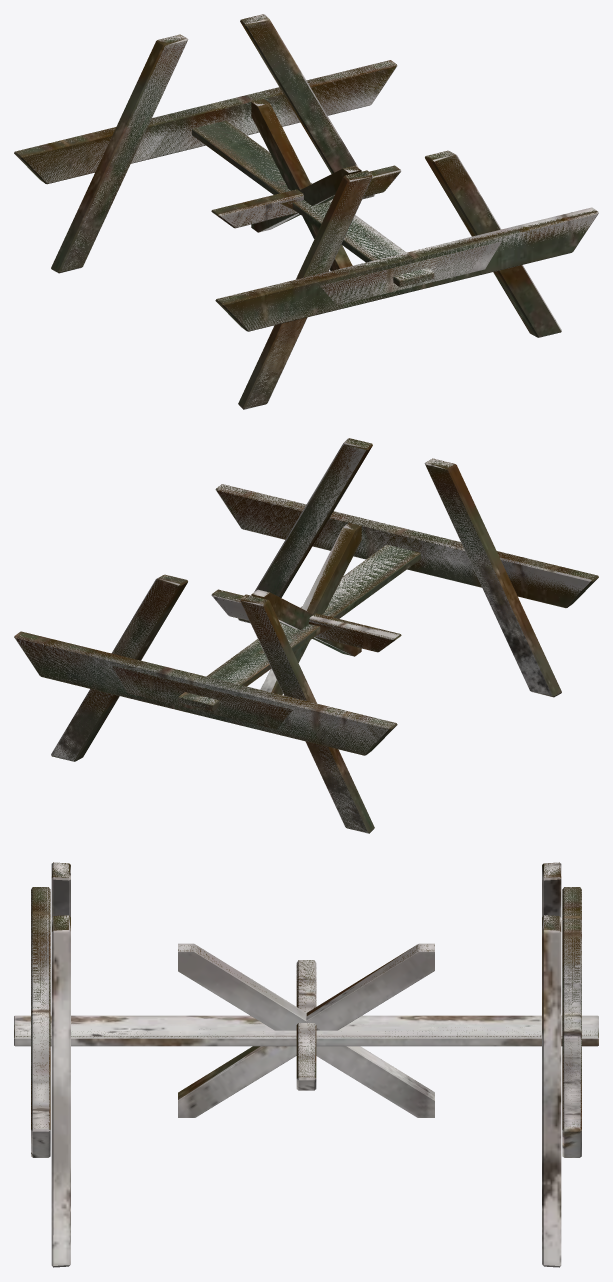
The model's file is picnic-table.glb.
The picture shows the model from 3 angles, top to bottom: view 1: azimuth 30°, elevation 25°; view 2: azimuth 150°, elevation 25°; view 3: azimuth 270°, elevation 25°; orthographic projection. The views are drawn at different scales.
Parts seen in each view (by area): view 1: pCube16 (×2), pCube13 (×2), pCube14 (×2), pCube31, pCube34 (×2), pCube20 (×2), pCube37, pCube32, pCube26, pCube30; view 2: pCube16 (×2), pCube13 (×2), pCube14 (×2), pCube33 (×2), pCube20 (×2), pCube26 (×2), pCube34 (×2), pCube31, pCube37, pCube30; view 3: pCube13 (×2), pCube16 (×2), pCube37 (×2), pCube26, pCube34, pCube3, pCube32, pCube20 (×2), pCube31.
Boxes of the visible parts, x1,y1,x2,y2 form: pCube16 (×2): (14, 60, 598, 331); pCube13 (×2): (51, 14, 561, 409); pCube14 (×2): (320, 241, 501, 305); pCube31: (193, 121, 433, 284); pCube34 (×2): (206, 121, 432, 286); pCube20 (×2): (211, 165, 401, 228); pCube37: (251, 99, 352, 270); pCube32: (193, 120, 433, 283); pCube26: (251, 165, 361, 232); pCube30: (192, 130, 434, 286); pCube16 (×2): (14, 484, 598, 755); pCube13 (×2): (51, 438, 561, 833); pCube14 (×2): (111, 665, 292, 729); pCube33 (×2): (179, 545, 418, 708); pCube20 (×2): (211, 589, 401, 652); pCube26 (×2): (260, 523, 361, 694); pCube34 (×2): (180, 545, 414, 704); pCube31: (179, 545, 419, 705); pCube37: (251, 592, 361, 656); pCube30: (212, 554, 420, 710); pCube13 (×2): (51, 862, 561, 1267); pCube16 (×2): (31, 887, 581, 1157); pCube37 (×2): (178, 943, 434, 1117); pCube26: (178, 943, 434, 1117); pCube34: (14, 1024, 598, 1037); pCube3: (14, 1038, 598, 1046); pCube32: (14, 1015, 598, 1029); pCube20 (×2): (296, 960, 316, 1090); pCube31: (14, 1037, 598, 1038).
Size of the model in its own units: 1932378 by 996429 by 1966020.
2 materials, 2 textured.
